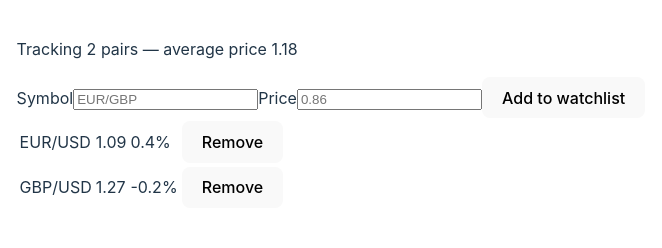
Scenario: <WatchlistApp /> (integration) › adding a symbol via the form updates the table AND the summary count
Type "usd/jpy" into the field labelled "Symbol". click: (166, 99)
box: [73,89,258,110]
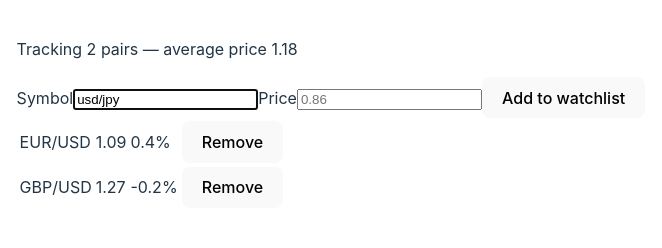
Type "150.25" into the field labelled "Price". click: (389, 99)
box: [297,89,482,110]
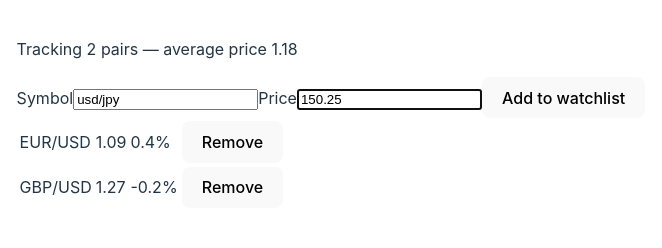
Click the button "Add to watchlist". click: (564, 98)
box: [482,77,645,118]
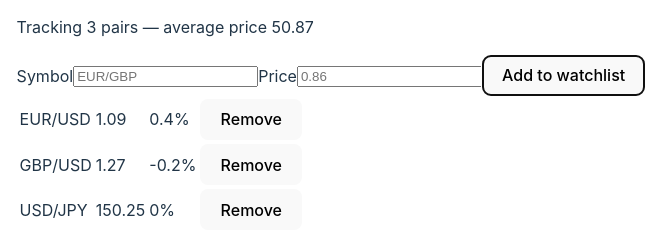
Now the text "USD/JPY" is shown, box [19,188,93,231]
Now the text "Tracking 3 pairs — average price 50.87" is shown, box [17,17,314,37]
